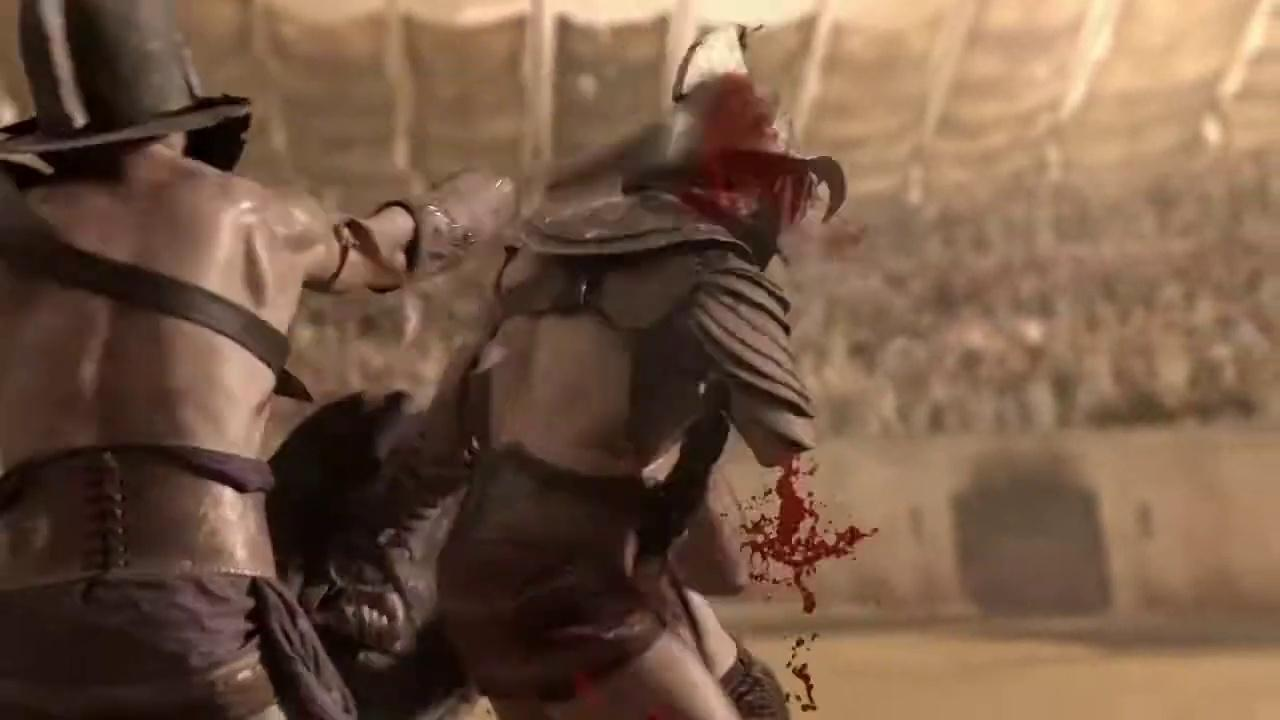Fire: (738, 460, 878, 616), (783, 631, 820, 713)
